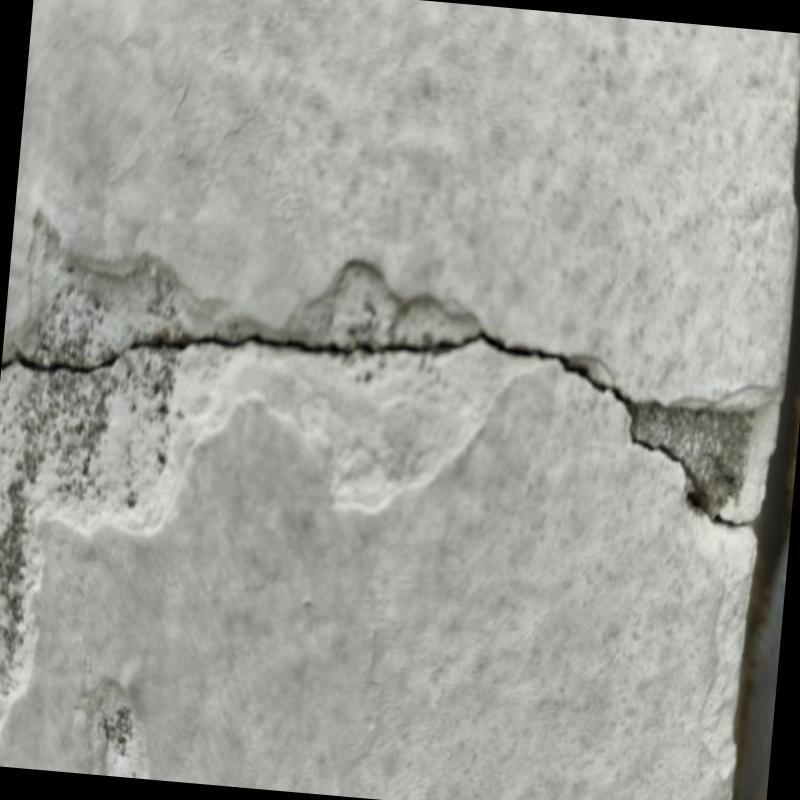pothole: (1, 329, 753, 529)
